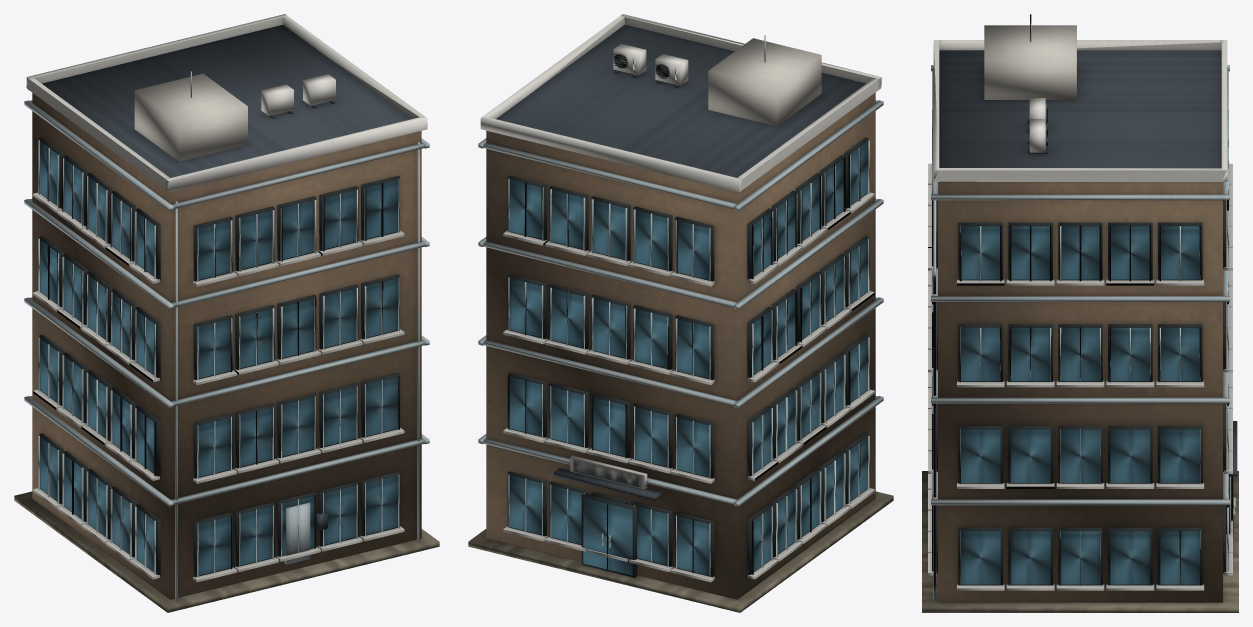
Rendered from office_003.obj.
3 views of the same model, side by side, from view 1: azimuth 30°, elevation 25°; view 2: azimuth 150°, elevation 25°; view 3: azimuth 270°, elevation 25° (orthographic). The views are drawn at different scales.
Visible parts, largest first — view 1: office_003; view 2: office_003; view 3: office_003.
Boxes of the visible parts, x1=… form: office_003: x1=14, y1=14, x2=439, y2=612; office_003: x1=468, y1=14, x2=893, y2=612; office_003: x1=922, y1=14, x2=1238, y2=612.
Bounding box in the file's own units: 9.1 × 15.5 × 8.9.
Materials: 1 (1 with a texture image).
